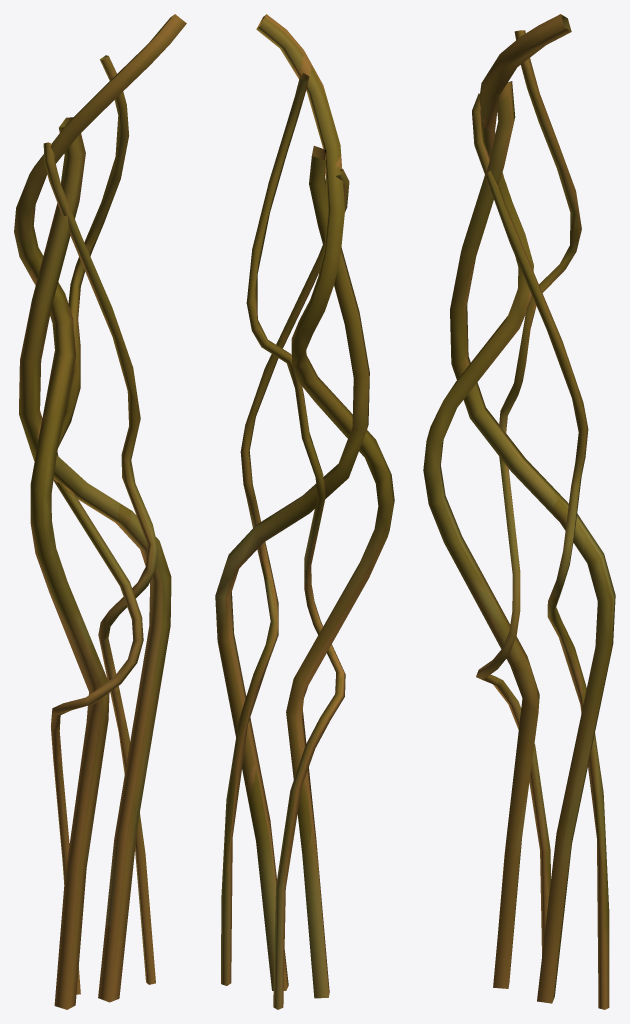
The model's file is Vine04.fbx.
The picture shows the model from 3 angles, left to right: view 1: azimuth 30°, elevation 25°; view 2: azimuth 150°, elevation 25°; view 3: azimuth 330°, elevation 25°; orthographic projection. The views are drawn at different scales.
Parts seen in each view (by area): view 1: Vine04_LOD0; view 2: Vine04_LOD0; view 3: Vine04_LOD0.
Boxes of the visible parts, left/top/right/bottom form: Vine04_LOD0: left=14, top=14, right=186, bottom=1009; Vine04_LOD0: left=215, top=14, right=394, bottom=1009; Vine04_LOD0: left=423, top=14, right=615, bottom=1009.
Size of what is drawn, in the model's own units: 48.49 by 285 by 32.46.
Materials: 1 (1 with a texture image).
